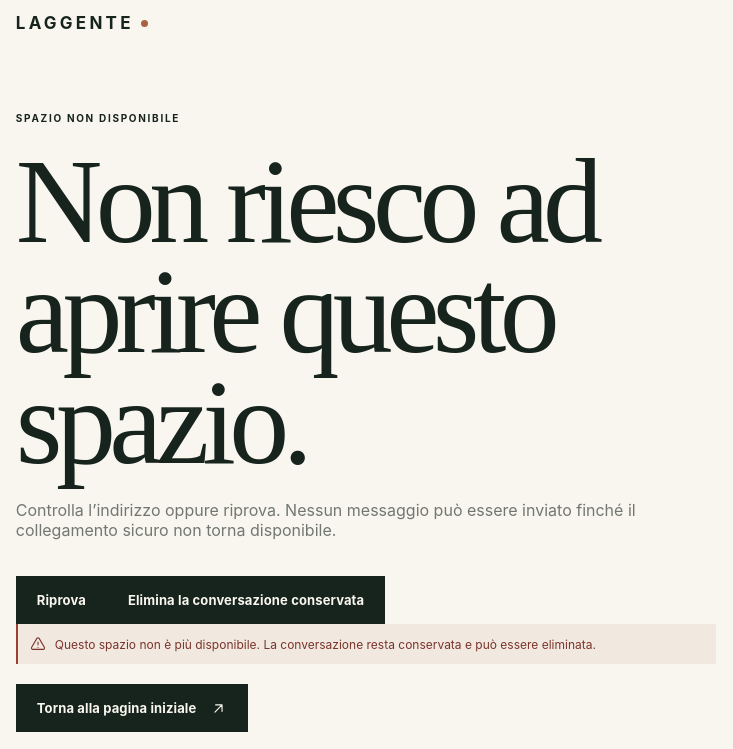
Test: public space failure boundary › confirms an inactive conversation deletion on the unavailable surface
Click the button "Elimina la conversazione conservata" at x=246, y=600, box [107, 576, 385, 624]
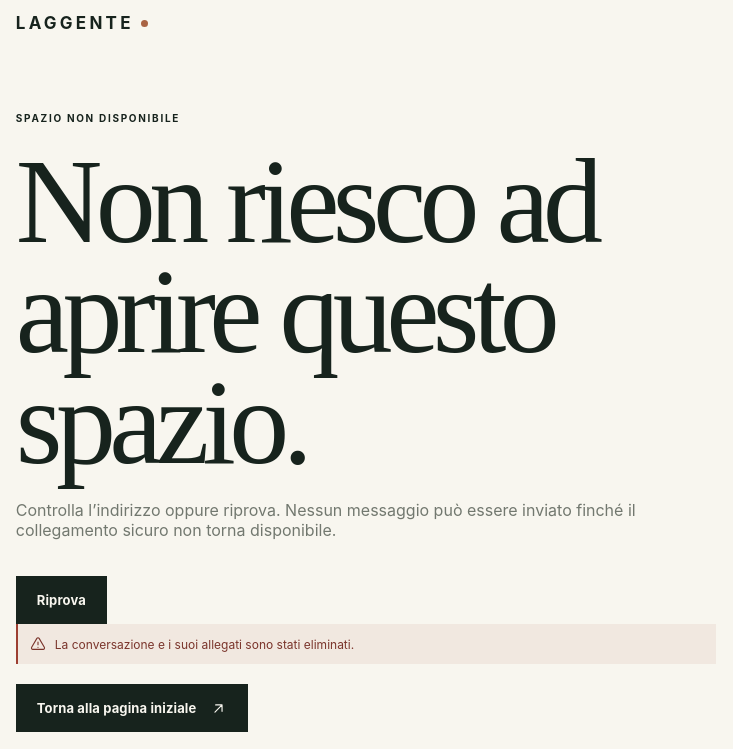
Check: the text "La conversazione e i suoi allegati sono stati eliminati." is shown, box [55, 637, 354, 652]
